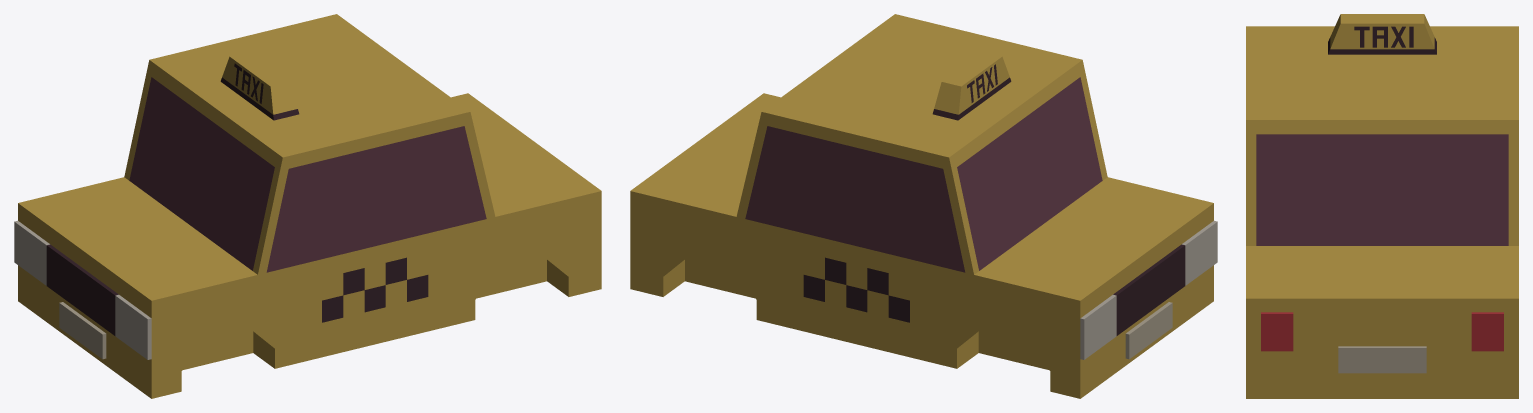
Rendered from Sedan_Taxi.fbx.
3 views of the same model, side by side, from view 1: azimuth 30°, elevation 25°; view 2: azimuth 150°, elevation 25°; view 3: azimuth 270°, elevation 25° (orthographic). The views are drawn at different scales.
Parts seen in each view (by area): view 1: Sedan_Taxi, Sedan_TaxiLights; view 2: Sedan_Taxi, Sedan_TaxiLights; view 3: Sedan_Taxi, Sedan_TaxiLights.
Boxes of the visible parts, left/top/right/bottom form: Sedan_Taxi: left=18, top=14, right=601, bottom=398; Sedan_TaxiLights: left=14, top=220, right=151, bottom=359; Sedan_Taxi: left=630, top=14, right=1213, bottom=398; Sedan_TaxiLights: left=1080, top=220, right=1217, bottom=359; Sedan_Taxi: left=1246, top=14, right=1518, bottom=398; Sedan_TaxiLights: left=1261, top=312, right=1503, bottom=351.
Size of the model in its own units: 3.66 by 1.82 by 1.85.
